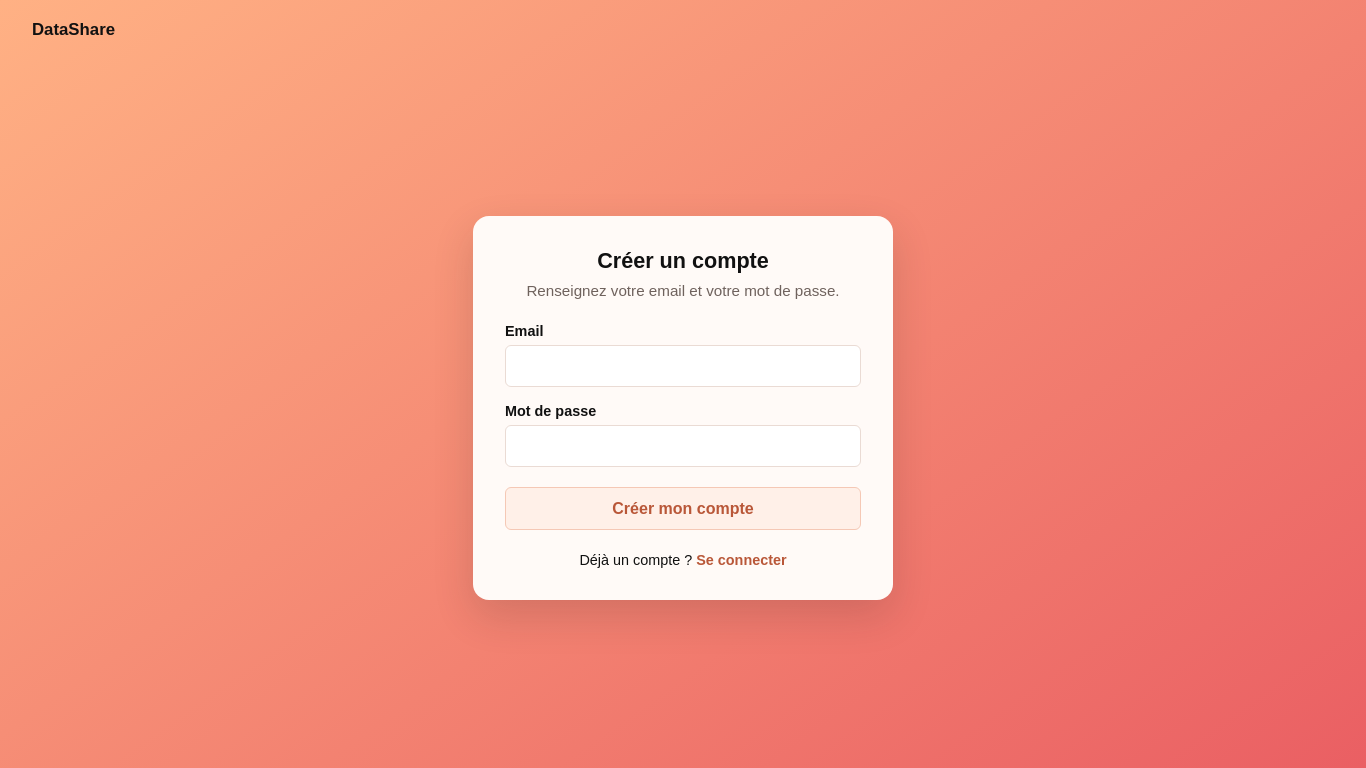
Test: Register › should display validation errors when form is invalid
The width and height of the screenshot is (1366, 768).
Click the button "Créer mon compte". click: (683, 509)
box: [505, 488, 861, 530]
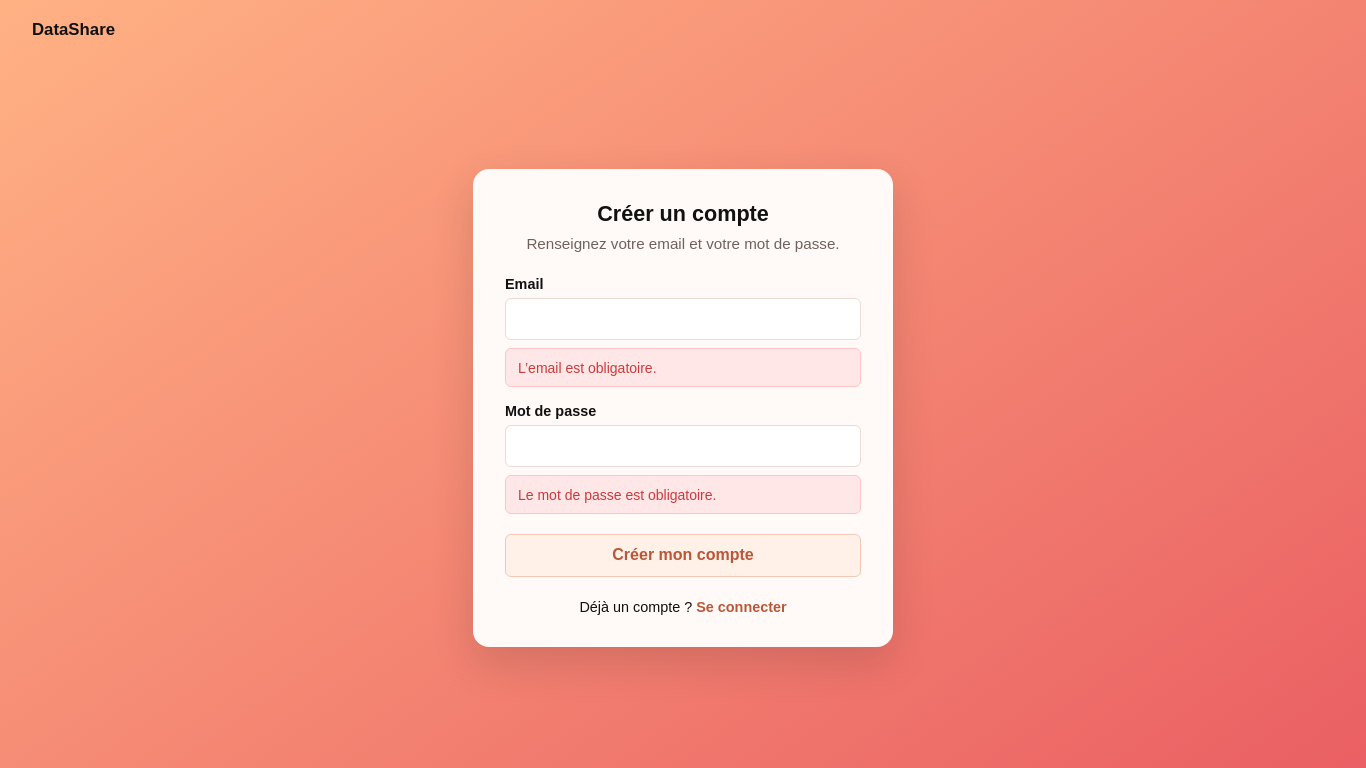
Expected: the text "L’email est obligatoire." is shown, [518, 360, 656, 376]
Expected: the text "Le mot de passe est obligatoire." is shown, [518, 487, 716, 503]
